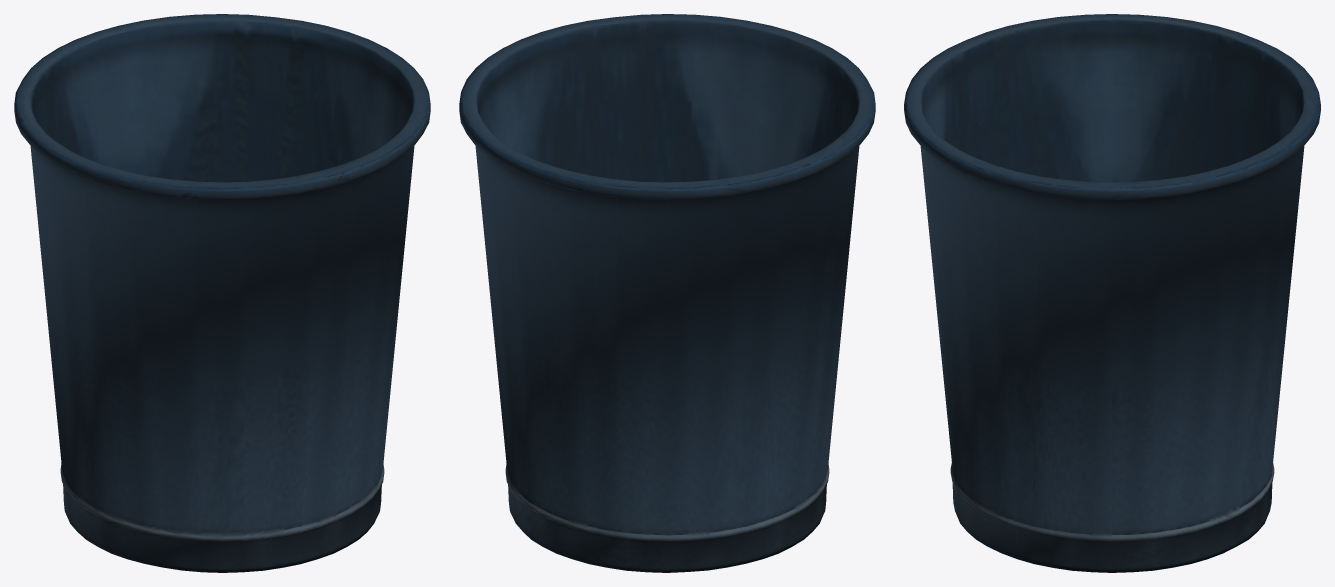
Rendered from ENV_trashcan_v001.fbx.
3 views of the same model, side by side, from view 1: azimuth 30°, elevation 25°; view 2: azimuth 150°, elevation 25°; view 3: azimuth 270°, elevation 25° (orthographic).
Visible parts, largest first — view 1: tripo_node_ccdbba29-ce71-41ef-bdb7-d51b4a17cc94; view 2: tripo_node_ccdbba29-ce71-41ef-bdb7-d51b4a17cc94; view 3: tripo_node_ccdbba29-ce71-41ef-bdb7-d51b4a17cc94.
Part boxes in pixels (x1,y1,x2,y2): tripo_node_ccdbba29-ce71-41ef-bdb7-d51b4a17cc94: (14, 14, 430, 572); tripo_node_ccdbba29-ce71-41ef-bdb7-d51b4a17cc94: (459, 14, 875, 572); tripo_node_ccdbba29-ce71-41ef-bdb7-d51b4a17cc94: (904, 14, 1320, 572).
Bounding box in the file's own units: 92.77 × 99.8 × 92.77.
1 material, 1 textured.
